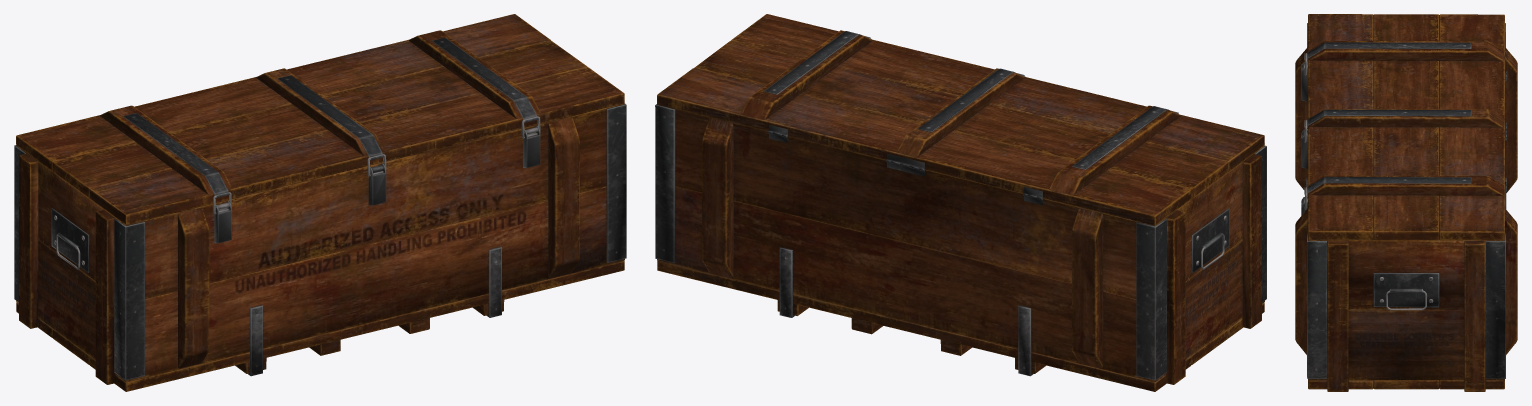
Rendered from wooden_military_crate.glb.
The picture shows the model from 3 angles, left to right: view 1: azimuth 30°, elevation 25°; view 2: azimuth 150°, elevation 25°; view 3: azimuth 270°, elevation 25°; orthographic projection. The views are drawn at different scales.
Parts seen in each view (by area): view 1: wooden_military_crate, wooden_military_crate_lid; view 2: wooden_military_crate, wooden_military_crate_lid; view 3: wooden_military_crate_lid, wooden_military_crate.
Part boxes in pixels (bbox=[...]): wooden_military_crate: bbox=[14, 103, 626, 391]; wooden_military_crate_lid: bbox=[16, 14, 624, 224]; wooden_military_crate: bbox=[655, 104, 1266, 391]; wooden_military_crate_lid: bbox=[657, 14, 1264, 225]; wooden_military_crate_lid: bbox=[1304, 14, 1506, 240]; wooden_military_crate: bbox=[1295, 23, 1517, 391].
Size of the model in its own units: 1.24 by 0.4647 by 0.5198.
Materials: 1 (1 with a texture image).
